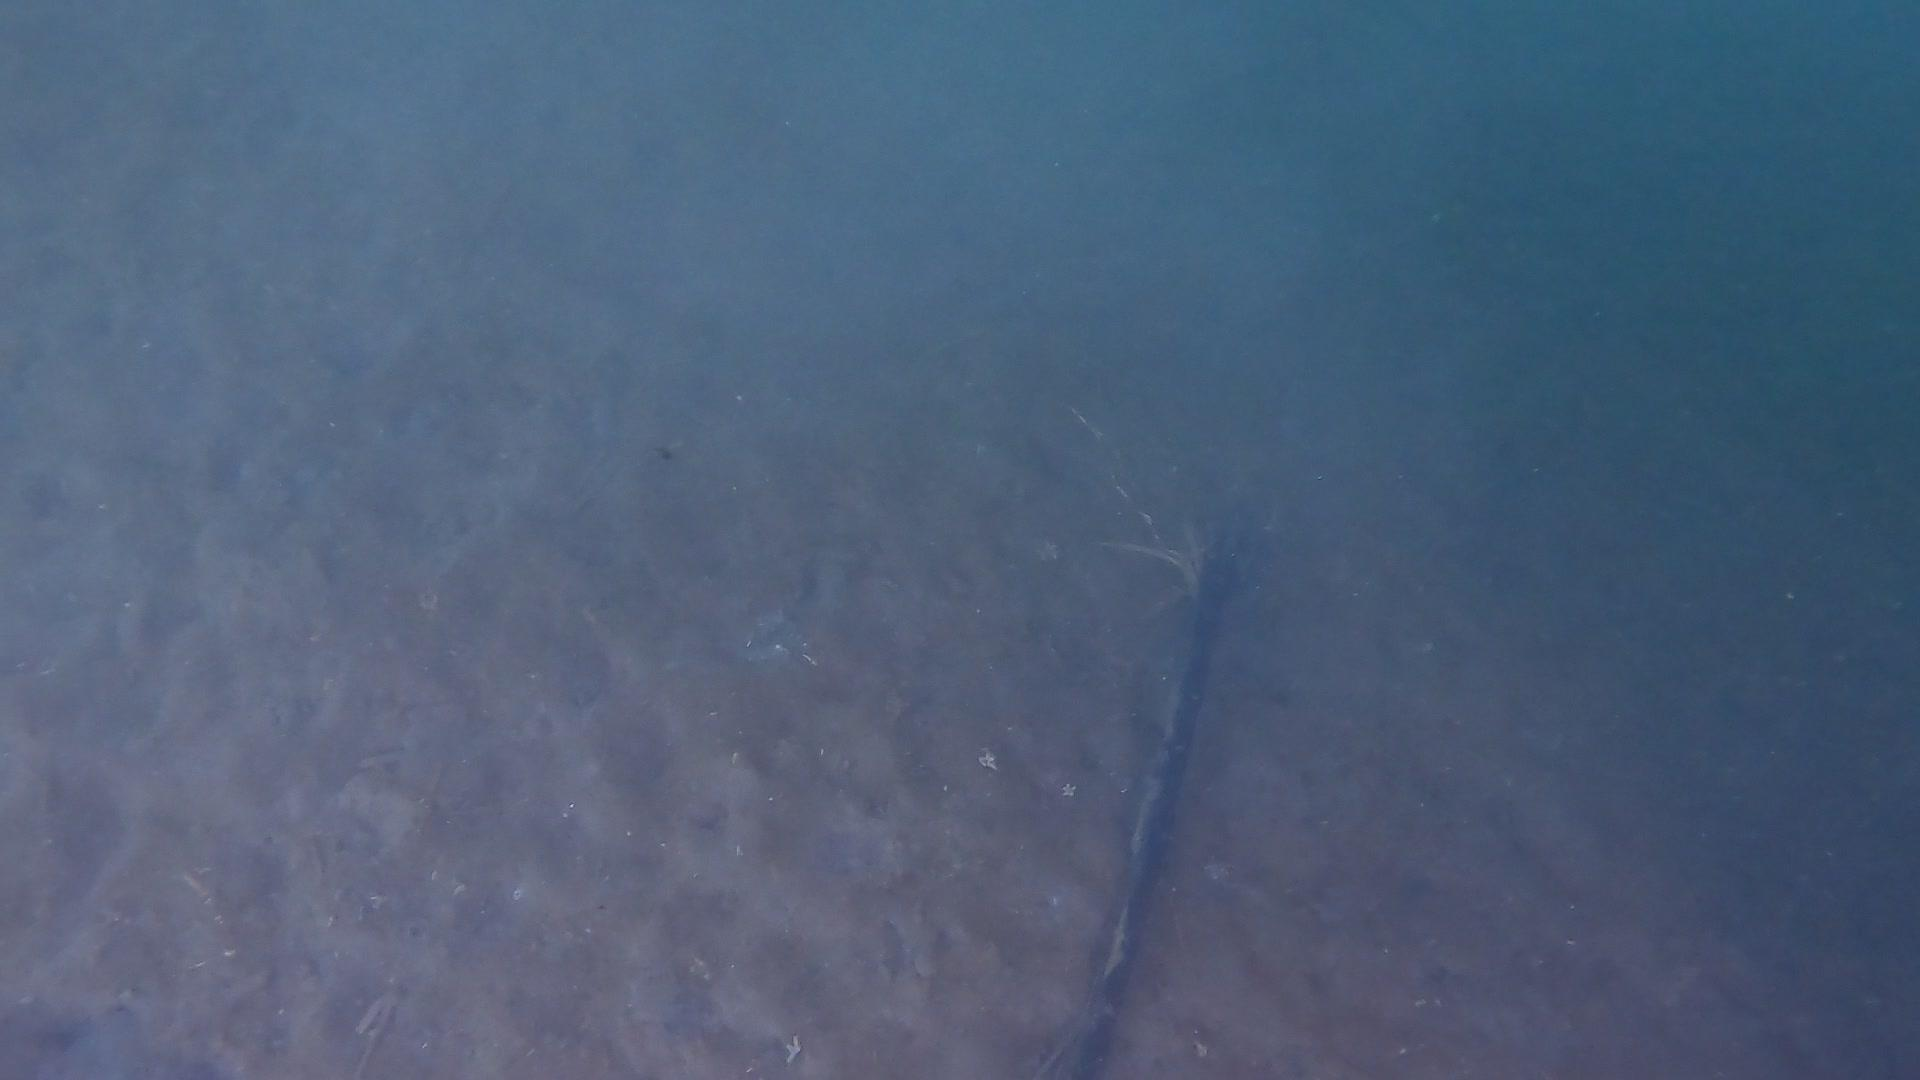wood: (1054, 516, 1242, 1080)
